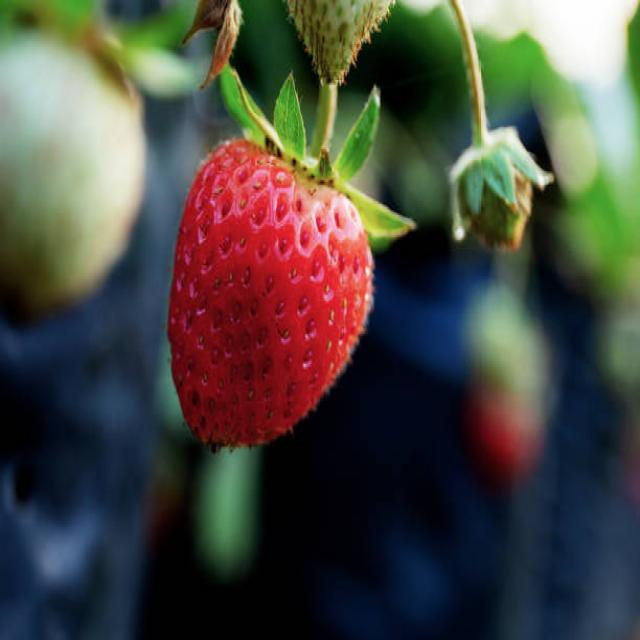Healthy Fruit: (169, 140, 372, 455)
